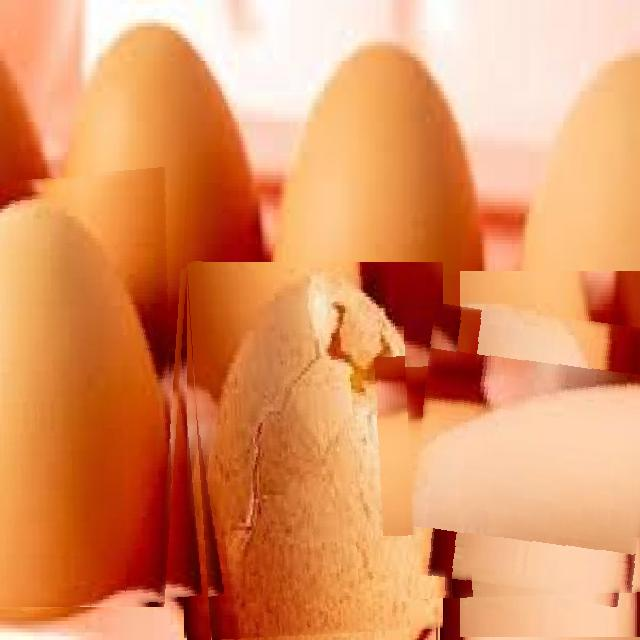biodegradable: (186, 262, 443, 640), (0, 170, 193, 607), (403, 310, 640, 599)
